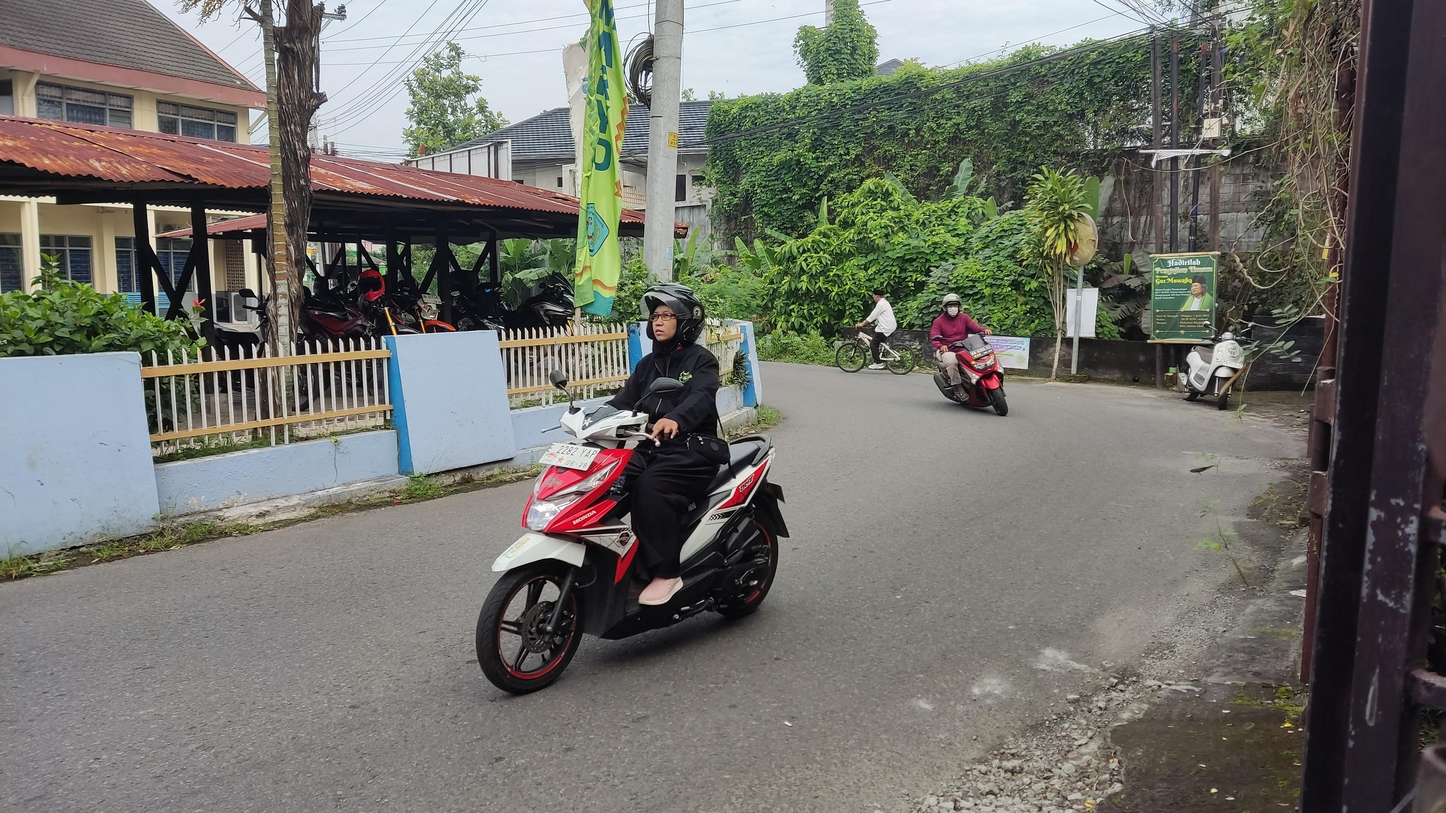helm: (635, 276, 715, 354)
riding: (466, 272, 800, 708)
